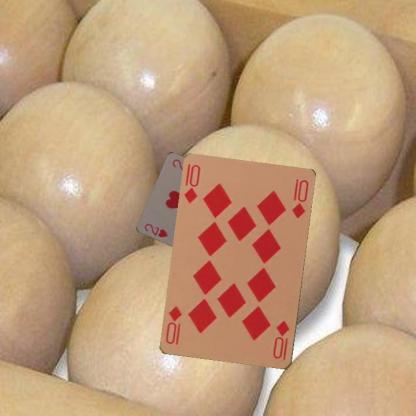10d: (271, 318, 292, 362), (182, 161, 202, 205)
2h: (142, 220, 169, 238)
